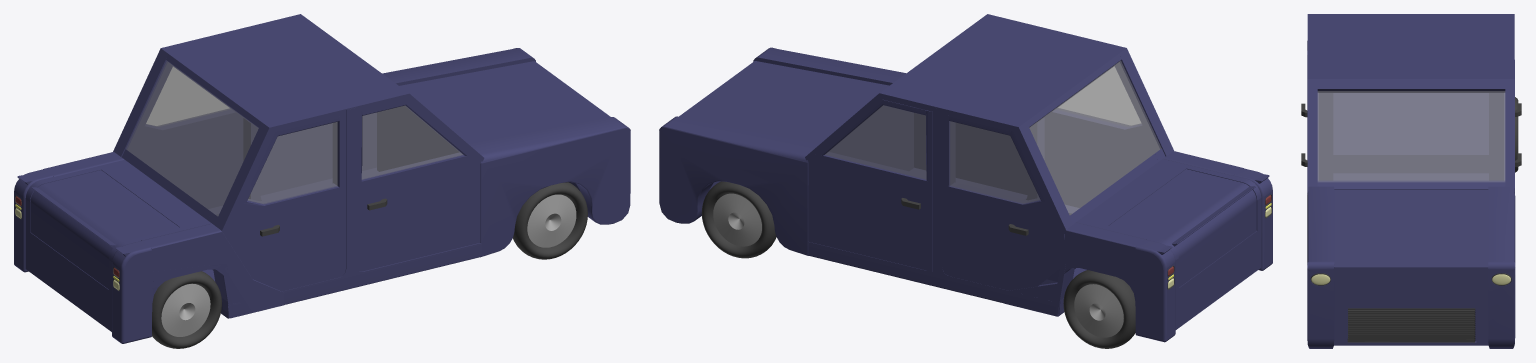
The model's file is Car Blue.fbx.
3 views of the same model, side by side, from view 1: azimuth 30°, elevation 25°; view 2: azimuth 150°, elevation 25°; view 3: azimuth 270°, elevation 25° (orthographic). The views are drawn at different scales.
Parts seen in each view (by area): view 1: pCube13, polySurface13, pCube29, pCube33, pCube37, pCube9, pCube28, pCube22, pCube26, pCube35, pCube11, pCube39 (+10 smaller); view 2: pCube13, pCube31, polySurface1, pCube35, pCube37, pCube9, pCube28, pCube24, pCube26, pCube33, pCube14, pCube40 (+10 smaller); view 3: pCube13, pCube38, pCube9, pCube26, pCube6, pCube7, polySurface13, polySurface1, pCube11, pCube14, pCube27, pCube31 (+1 smaller).
Boxes of the visible parts, bbox=[...] form: pCube13: bbox=[113, 14, 484, 236]; polySurface13: bbox=[468, 117, 630, 257]; pCube29: bbox=[356, 100, 480, 271]; pCube33: bbox=[225, 115, 345, 291]; pCube37: bbox=[126, 61, 258, 216]; pCube9: bbox=[397, 61, 610, 152]; pCube28: bbox=[30, 170, 179, 289]; pCube22: bbox=[112, 223, 284, 343]; pCube26: bbox=[25, 149, 217, 331]; pCube35: bbox=[130, 64, 242, 208]; pCube11: bbox=[221, 107, 481, 318]; pCube39: bbox=[248, 122, 337, 203]; pCube13: bbox=[805, 14, 1173, 235]; pCube31: bbox=[808, 99, 932, 271]; polySurface1: bbox=[659, 116, 820, 255]; pCube35: bbox=[942, 114, 1064, 290]; pCube37: bbox=[1029, 61, 1161, 214]; pCube9: bbox=[679, 61, 890, 151]; pCube28: bbox=[1109, 169, 1256, 287]; pCube24: bbox=[1004, 222, 1175, 342]; pCube26: bbox=[1070, 148, 1261, 329]; pCube33: bbox=[1045, 64, 1157, 207]; pCube14: bbox=[808, 107, 1055, 315]; pCube40: bbox=[949, 121, 1040, 203]; pCube13: bbox=[1307, 14, 1514, 193]; pCube38: bbox=[1317, 91, 1505, 181]; pCube9: bbox=[1317, 180, 1505, 271]; pCube26: bbox=[1333, 93, 1488, 172]; pCube6: bbox=[1334, 272, 1488, 345]; pCube7: bbox=[1347, 308, 1475, 342]; polySurface13: bbox=[1307, 186, 1334, 348]; polySurface1: bbox=[1488, 186, 1515, 348]; pCube11: bbox=[1307, 51, 1332, 194]; pCube14: bbox=[1489, 93, 1503, 180]; pCube27: bbox=[1333, 173, 1488, 180]; pCube31: bbox=[1504, 60, 1514, 193].
Size of what is drawn, in the model's own units: 5.94 by 2.27 by 2.33.
